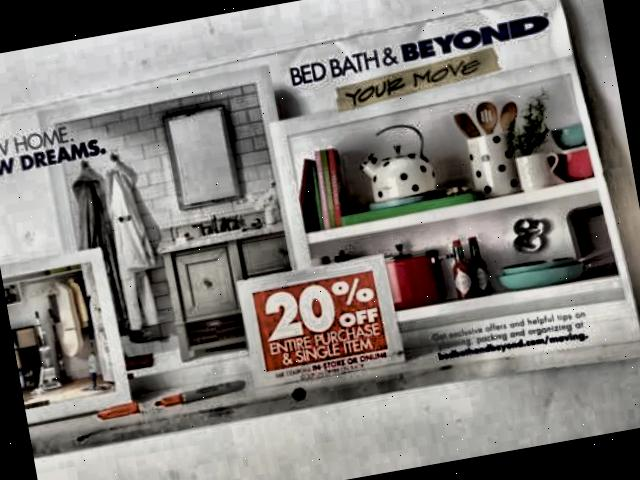Paper: (0, 0, 640, 467)
